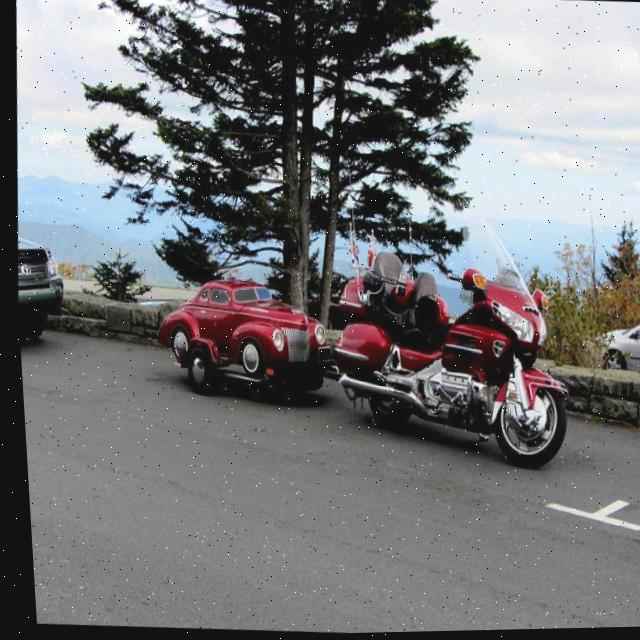car: (14, 235, 73, 348), (595, 294, 640, 399)
motorcycle: (320, 213, 588, 480)
